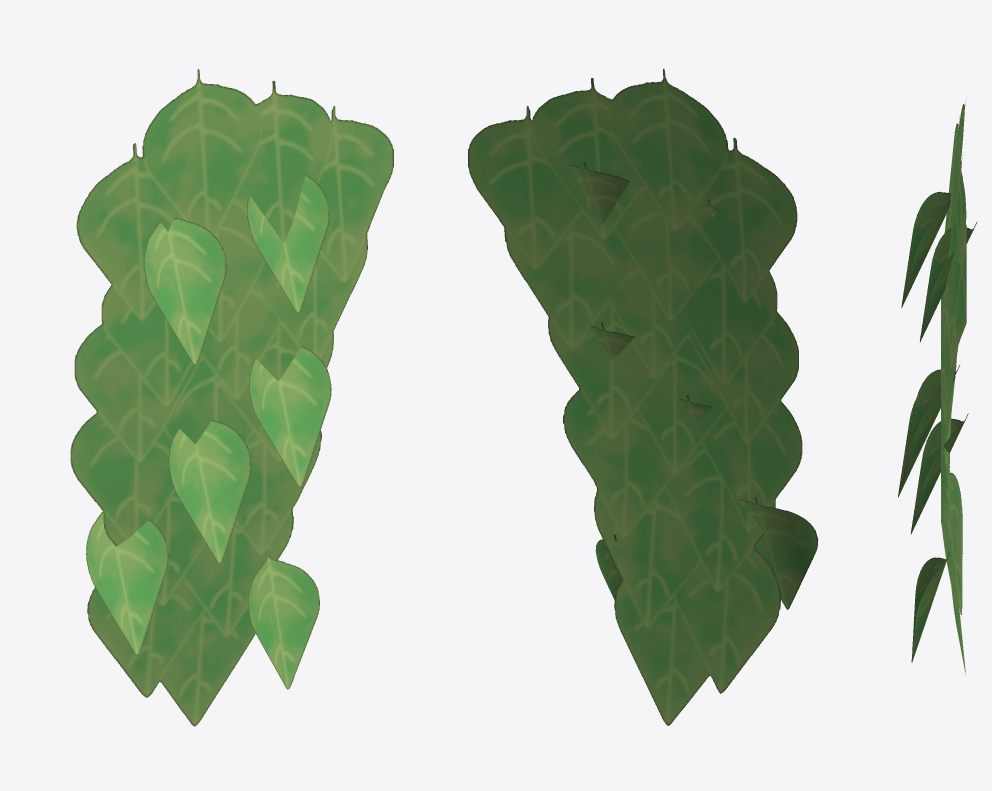
File: LeafSetB_16.fbx
3 renders of one model, left to right at view 1: azimuth 30°, elevation 25°; view 2: azimuth 150°, elevation 25°; view 3: azimuth 270°, elevation 25°, orthographic. The views are drawn at different scales.
Parts seen in each view (by area): view 1: LeafSetB_16; view 2: LeafSetB_16; view 3: LeafSetB_16.
Part boxes in pixels (bbox=[...]): LeafSetB_16: bbox=[70, 69, 393, 726]; LeafSetB_16: bbox=[468, 68, 818, 725]; LeafSetB_16: bbox=[898, 97, 977, 674].
Size of the model in its own units: 0.5214 by 0.8222 by 0.1287.
